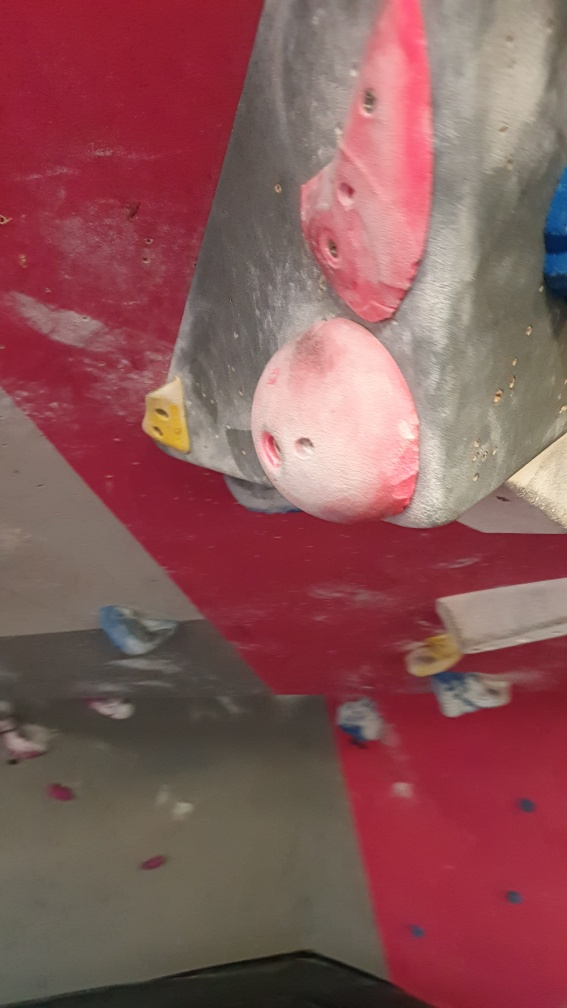Crimp: (138, 376, 198, 461)
Jug: (97, 602, 180, 660)
Sloper: (249, 313, 421, 528)
